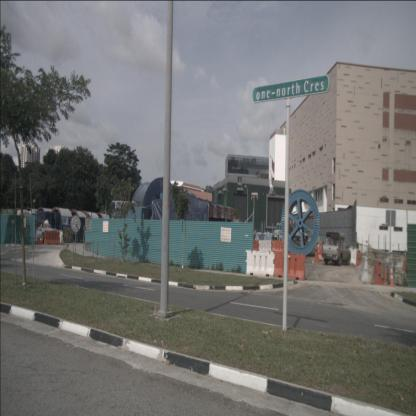movable_object-barrier: (274, 252, 306, 280), (246, 250, 275, 277), (371, 258, 383, 286), (359, 256, 369, 282), (44, 230, 60, 245), (259, 240, 272, 252), (246, 240, 259, 252), (272, 240, 284, 252), (352, 249, 358, 266), (314, 246, 320, 262), (357, 250, 361, 266)
movable_object-trafficcone: (388, 266, 395, 286), (382, 266, 388, 286), (38, 234, 41, 245), (36, 236, 40, 244), (40, 237, 43, 245)
vehicle-truck: (322, 232, 351, 266)
